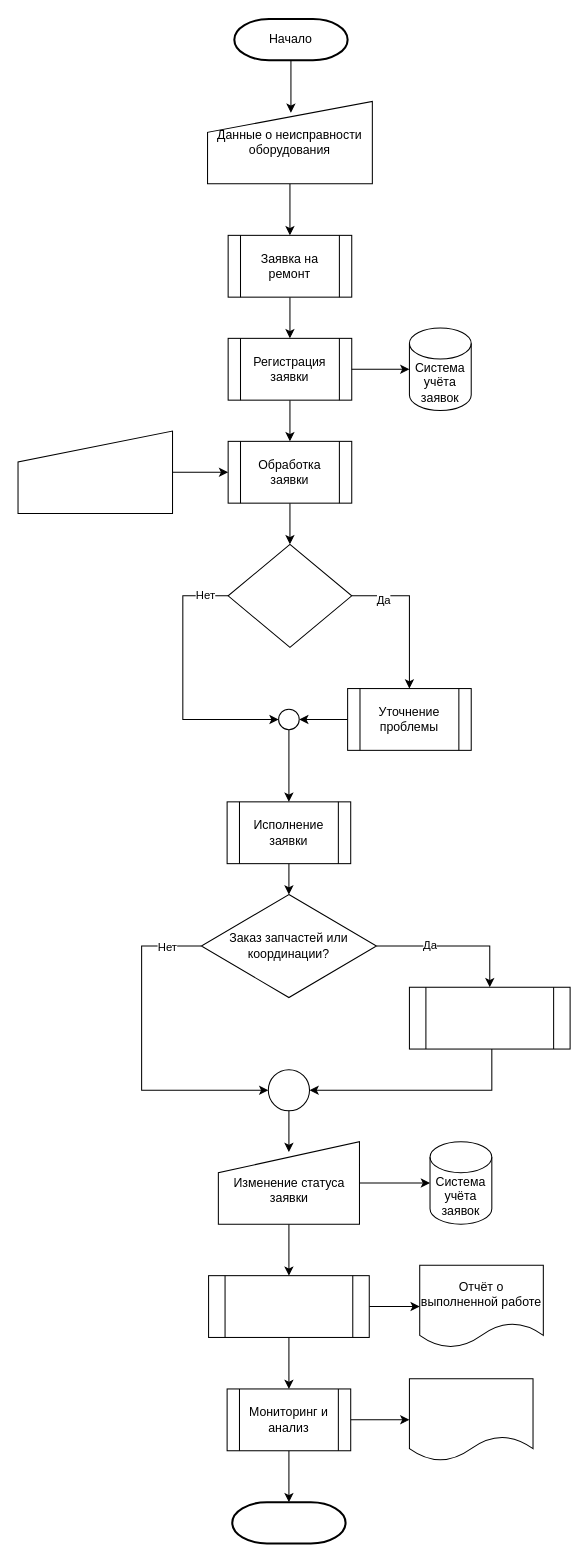
The diagram is 588 pixels wide and 1561 high, and some of its shapes have lost their labels. The centre of each missing label's shape, as x and y in pixels:
"Даннык об исполнителе" belongs at (x=95, y=471).
"Доп инфа или уточнение" belongs at (x=289, y=595).
"Конец" belongs at (x=288, y=1522).
"Отчёт по статистике" belongs at (x=470, y=1419).
"Отчётность и информаирование" belongs at (x=288, y=1306).
"Связь со специалистами" belongs at (x=489, y=1017).
